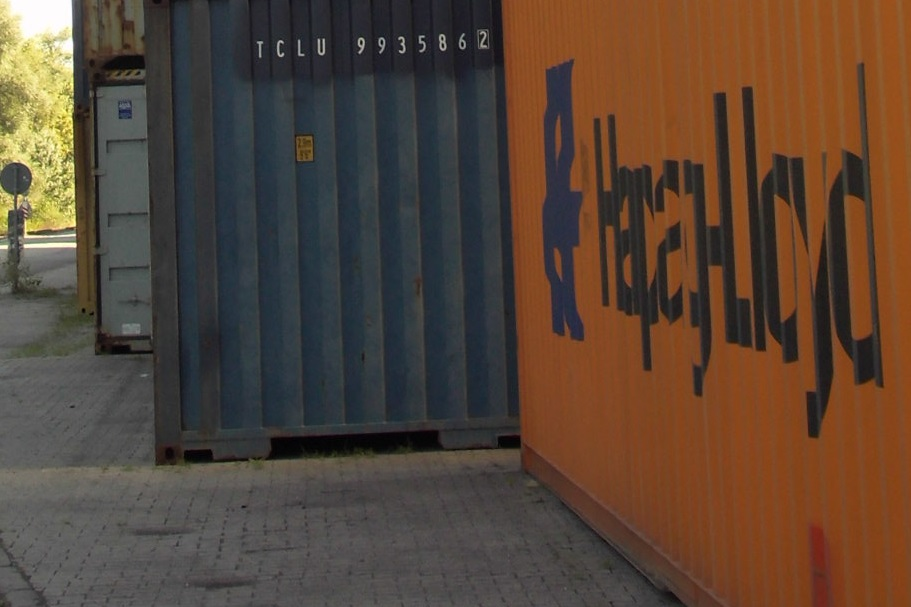container_no_door: (155, 3, 502, 460)
